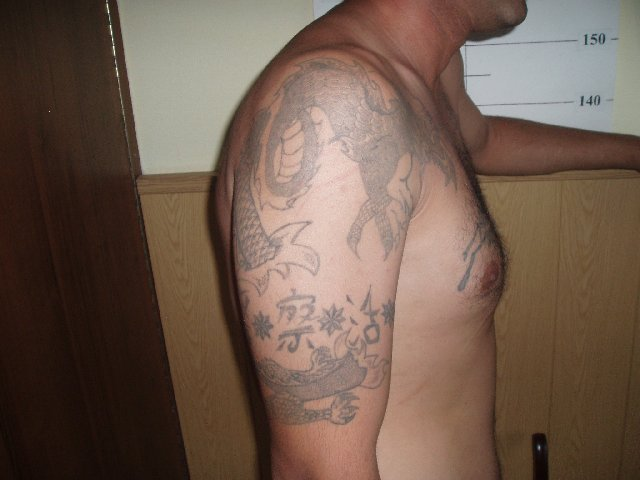tatu6_drakon: (229, 44, 454, 443)
